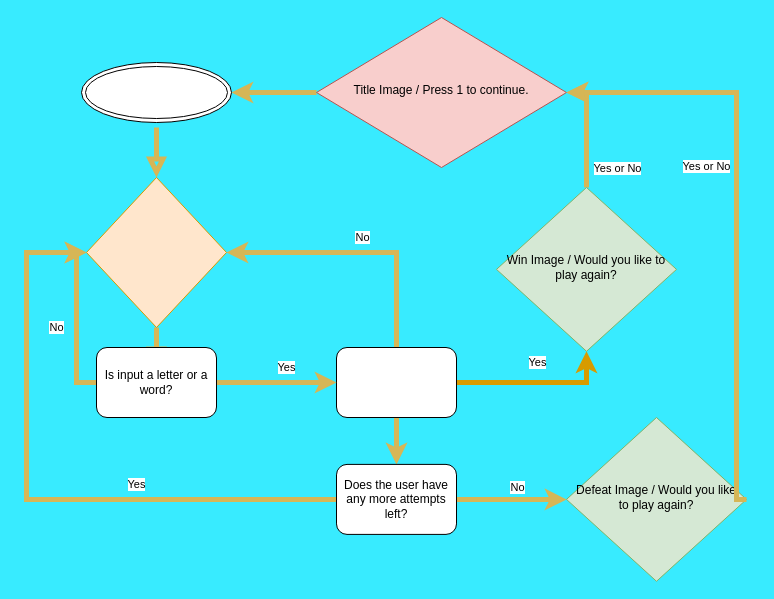
Image size: 774x599. Some labels were removed from this diagram. The shapes that lost their labels are listed below. From the top down, each one's centre as x and y in pixels, then its label:
At (x=156, y=92): "Start Game / Random word generated".
At (x=156, y=252): "Guess a letter or the whole word".
At (x=396, y=382): "Is the hidden word guessed?".
